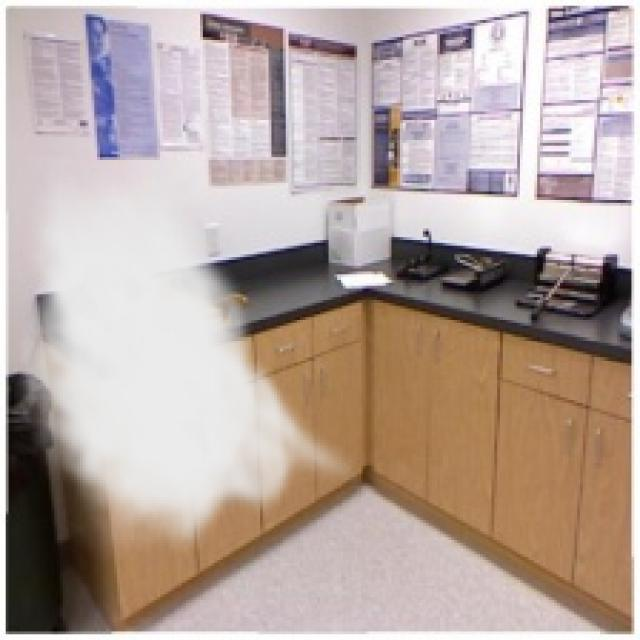Smoke: (11, 151, 360, 560)
